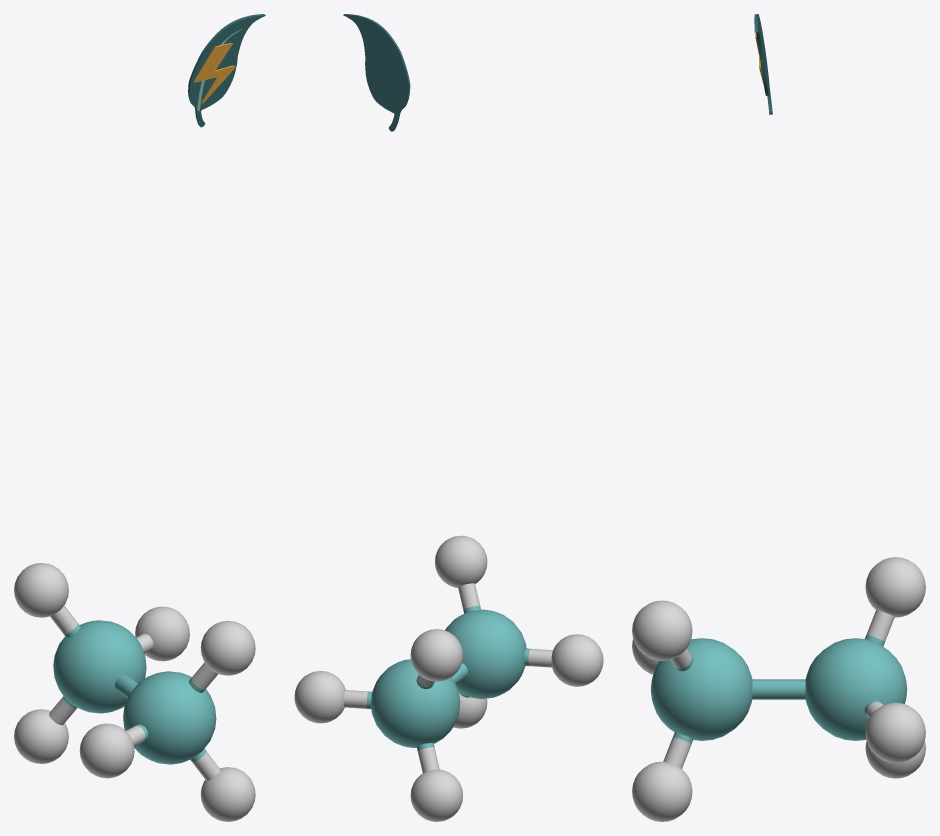
The picture shows the model from 3 angles, left to right: view 1: azimuth 30°, elevation 25°; view 2: azimuth 150°, elevation 25°; view 3: azimuth 270°, elevation 25°; orthographic projection. The views are drawn at different scales.
Parts seen in each view (by area): view 1: c2h6, path182, path186; view 2: c2h6, path182; view 3: c2h6, path182.
Boxes of the visible parts, box(x1,y1,x2,y2) form: c2h6: box(14, 563, 255, 821); path182: box(188, 14, 265, 127); path186: box(193, 43, 235, 103); c2h6: box(294, 535, 603, 821); path182: box(343, 14, 410, 131); c2h6: box(632, 557, 925, 821); path182: box(754, 14, 772, 114).
Size of the model in its own units: 1.83 by 5.9 by 1.89.
